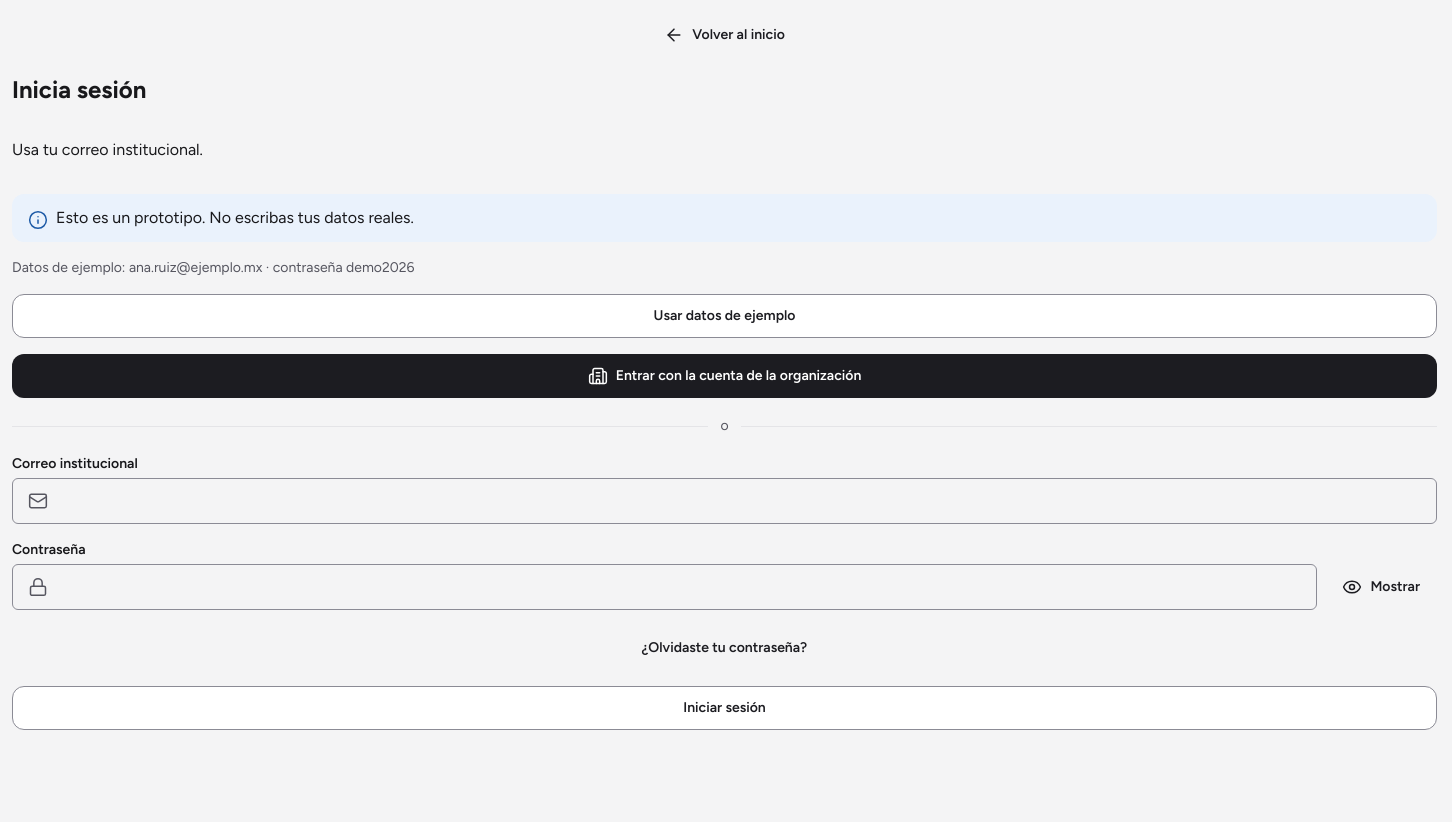
Test case: A2 account picker state › renders only the accounts it receives (nothing hardcoded)
Click the button "Entrar con la cuenta de la organización": (724, 376) [12,354,1437,398]
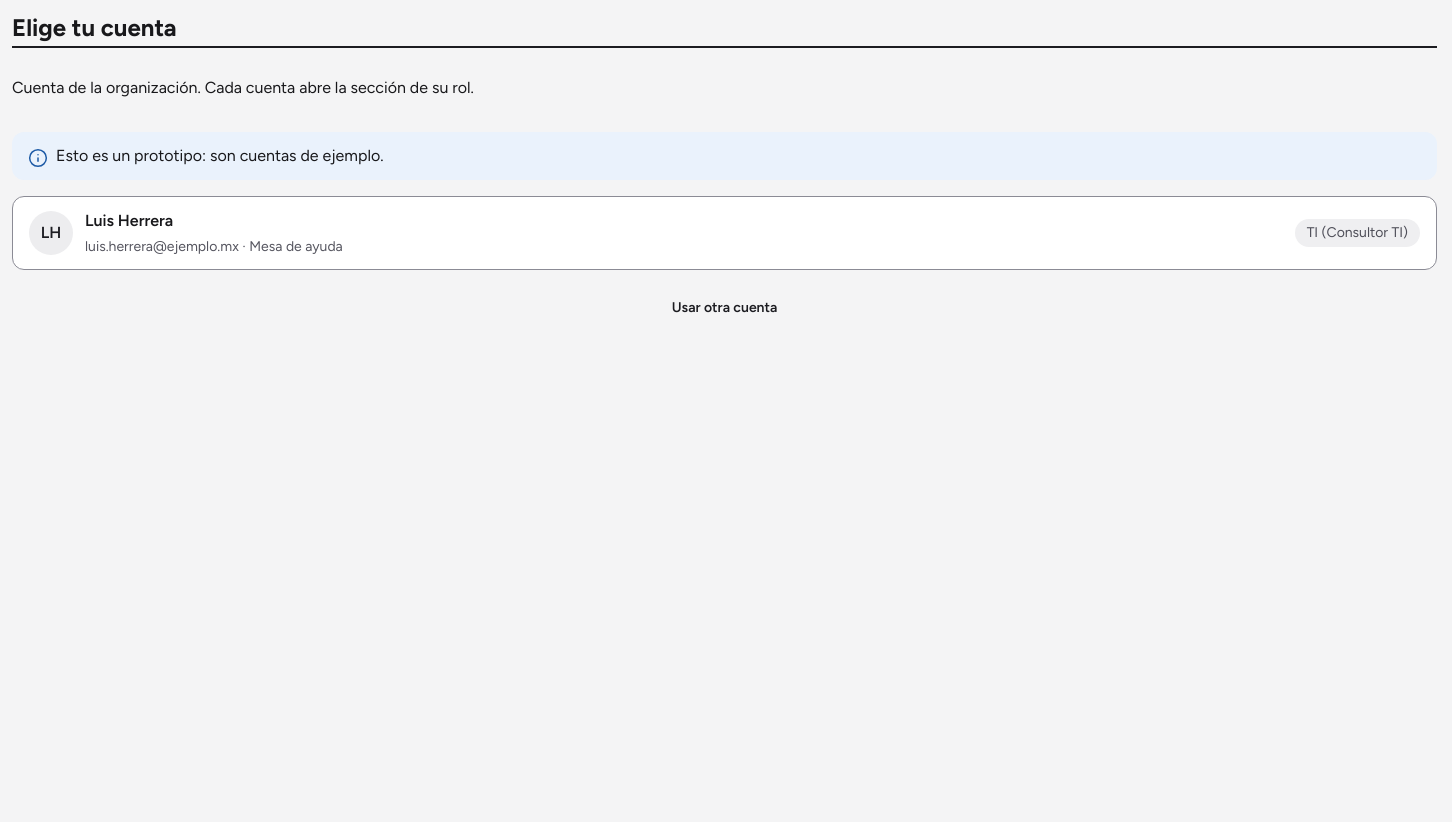
Now the number of list items is 1, box [12,196,1437,270]
